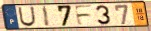3: (95, 5, 112, 26)
7: (56, 5, 74, 27), (113, 4, 131, 26)
F: (73, 4, 93, 26)
I: (42, 5, 51, 27)
U: (17, 6, 37, 28)
